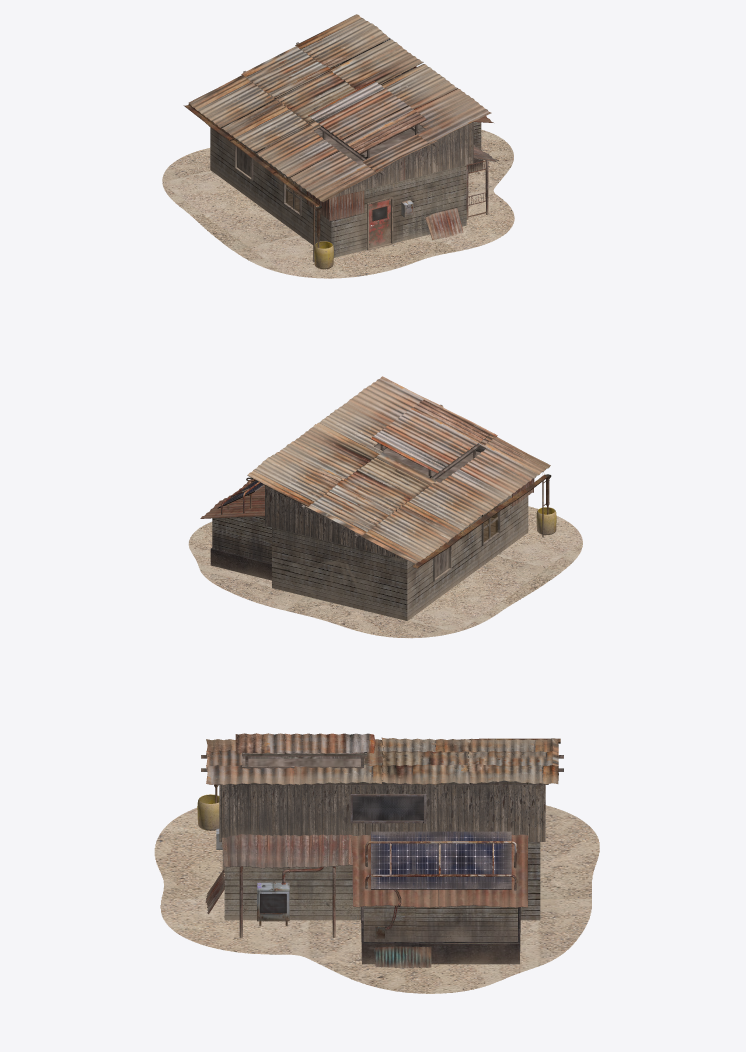
File: boarded_house.glb
3 views of the same model, one above another, from view 1: azimuth 30°, elevation 25°; view 2: azimuth 150°, elevation 25°; view 3: azimuth 270°, elevation 25° (orthographic). The views are drawn at different scales.
Parts seen in each view (by area): view 1: Plane_34, Wall_0, Cube.007_47, Cube.011_18, Cube.008_48, Cube.009_49, Cube.006_17, Cube.037_36, Cube.044_38, Cube.033_25, Door_4; view 2: Wall_0, Plane_34, Cube.011_18, Cube.007_47, Cube.008_48, Cube.009_49, Cube.006_17, Cube.027_24, Cube.037_36; view 3: Plane_34, Cube.006_17, Wall_0, Cube.049_40, Cube.011_18, Cube.027_24, Cube.010_50, Cube.008_48, Cube.009_49, Cube.007_47, Cube.024_23, Cylinder.007_42 (+7 smaller).
Part boxes in pixels (x1,y1,x2,y2): Plane_34: (162, 129, 514, 278); Wall_0: (210, 122, 483, 257); Cube.007_47: (188, 75, 383, 201); Cube.011_18: (295, 14, 491, 143); Cube.008_48: (241, 46, 437, 171); Cube.009_49: (308, 81, 427, 154); Cube.006_17: (227, 61, 473, 197); Cube.037_36: (183, 104, 319, 206); Cube.044_38: (425, 208, 463, 239); Cube.033_25: (329, 190, 364, 221); Door_4: (369, 199, 390, 248); Wall_0: (210, 495, 528, 620); Plane_34: (188, 506, 582, 638); Cube.011_18: (247, 376, 443, 506); Cube.007_47: (355, 437, 550, 563); Cube.008_48: (301, 407, 497, 535); Cube.009_49: (371, 399, 490, 473); Cube.006_17: (265, 443, 485, 560); Cube.027_24: (200, 479, 264, 518); Cube.037_36: (413, 472, 549, 568); Plane_34: (154, 805, 599, 993); Cube.006_17: (216, 758, 548, 841); Wall_0: (224, 842, 540, 964); Cube.049_40: (371, 831, 511, 889); Cube.011_18: (206, 763, 558, 784); Cube.027_24: (350, 834, 528, 907); Cube.010_50: (221, 834, 353, 868); Cube.008_48: (206, 750, 558, 769); Cube.009_49: (235, 733, 375, 753); Cube.007_47: (206, 737, 558, 755); Cube.024_23: (353, 796, 423, 820); Cylinder.007_42: (365, 841, 517, 890).
Size of the model in its own units: 19.38 by 4.89 by 20.9.
Materials: 8 (6 with a texture image).
